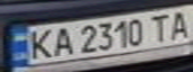0: (127, 16, 148, 46)
1: (112, 17, 130, 48)
2: (75, 21, 100, 54)
3: (93, 20, 115, 52)
A: (163, 7, 193, 40), (48, 25, 75, 57)
K: (21, 26, 57, 61)
T: (145, 11, 172, 43)
